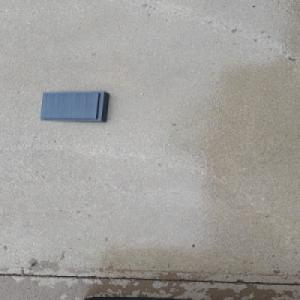PlasticPart: (38, 90, 111, 123)
